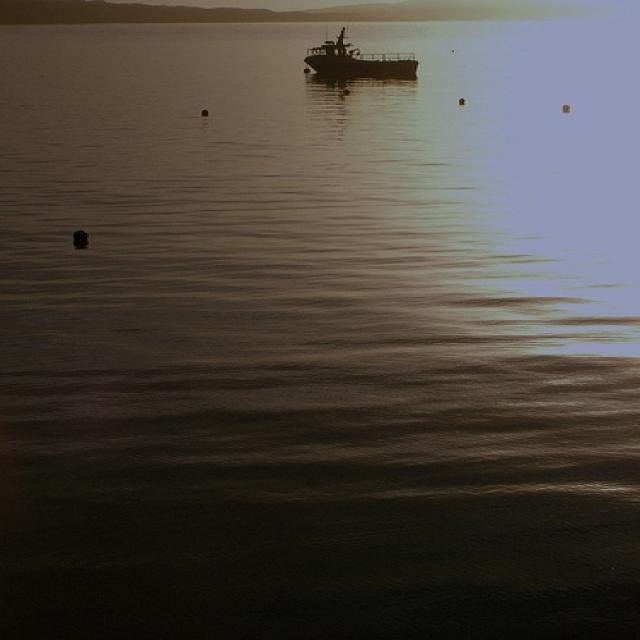boat: (300, 25, 421, 87)
